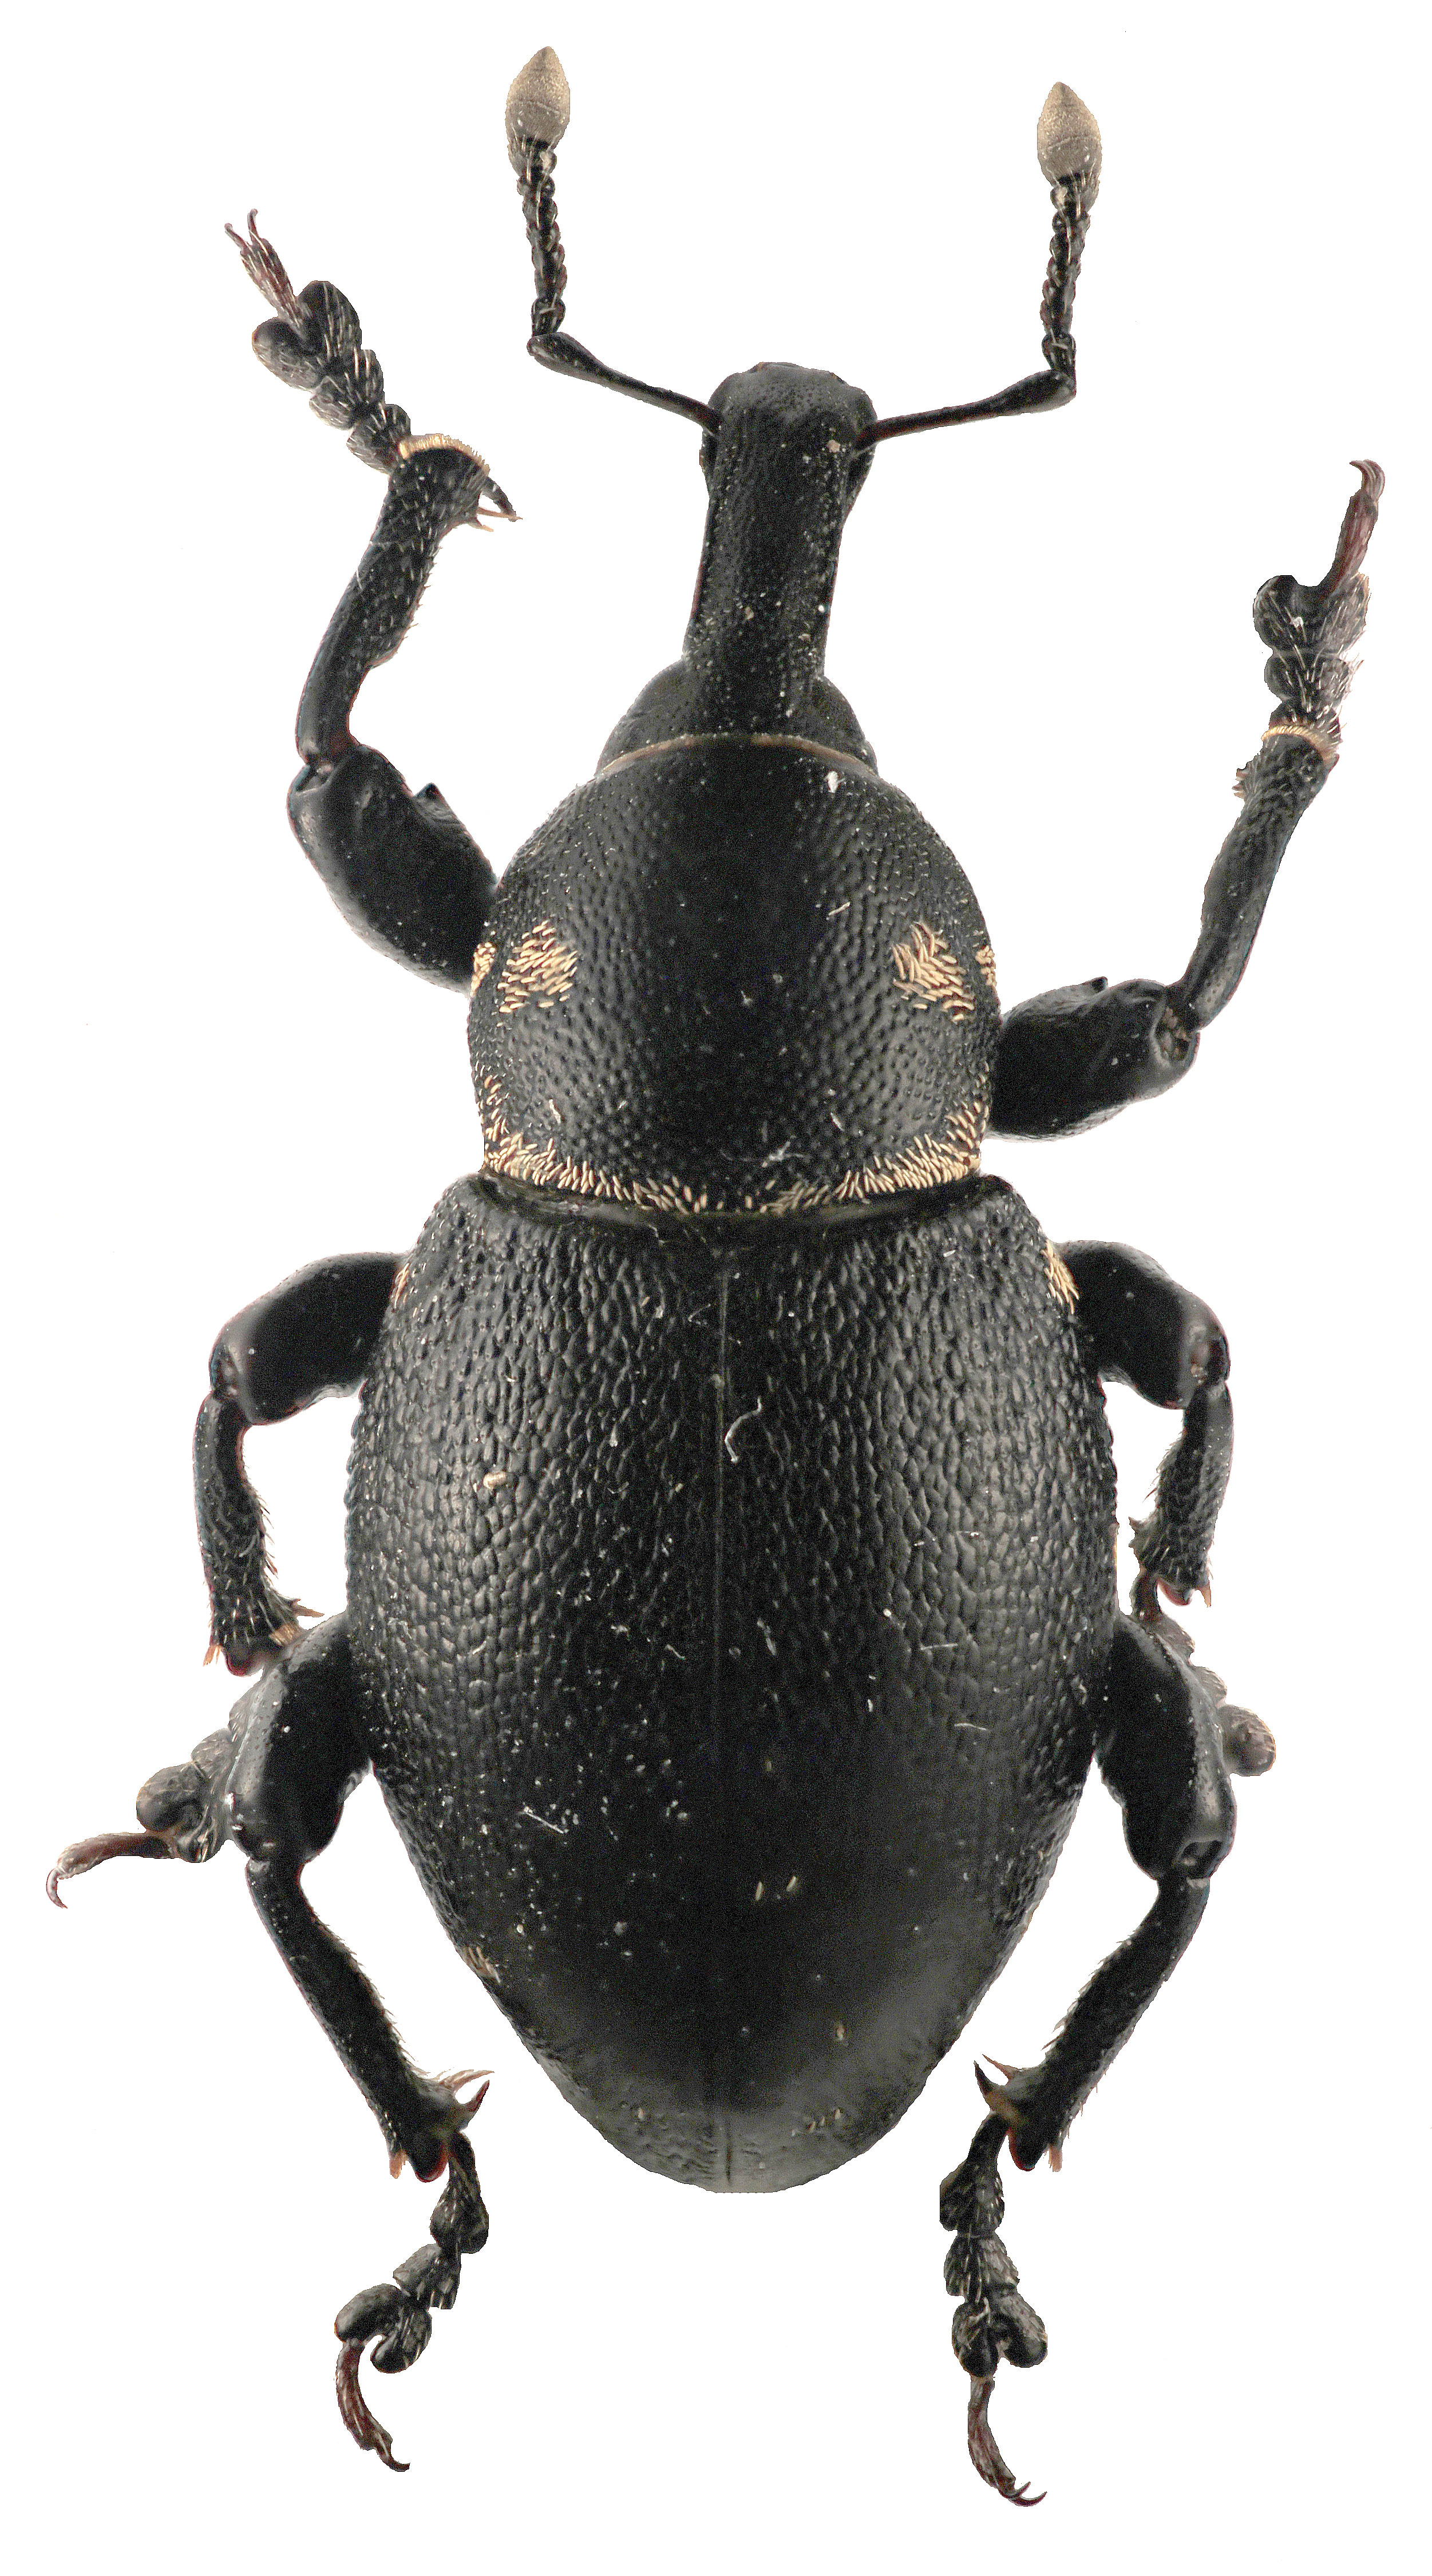dolgonosik: (102, 51, 1384, 2518)
